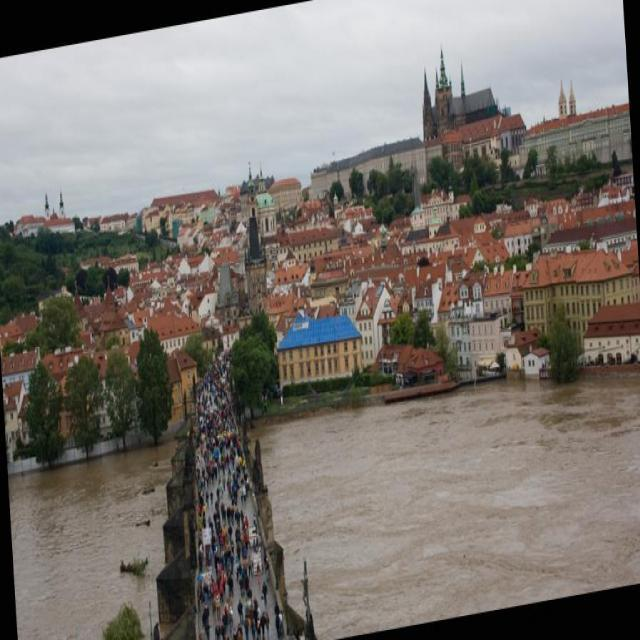flood: (250, 331, 639, 639), (5, 408, 178, 639)
